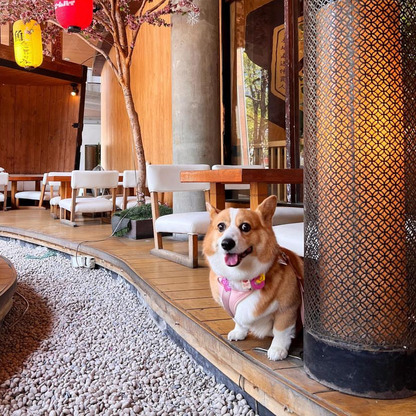Corgi: (189, 184, 332, 366)
